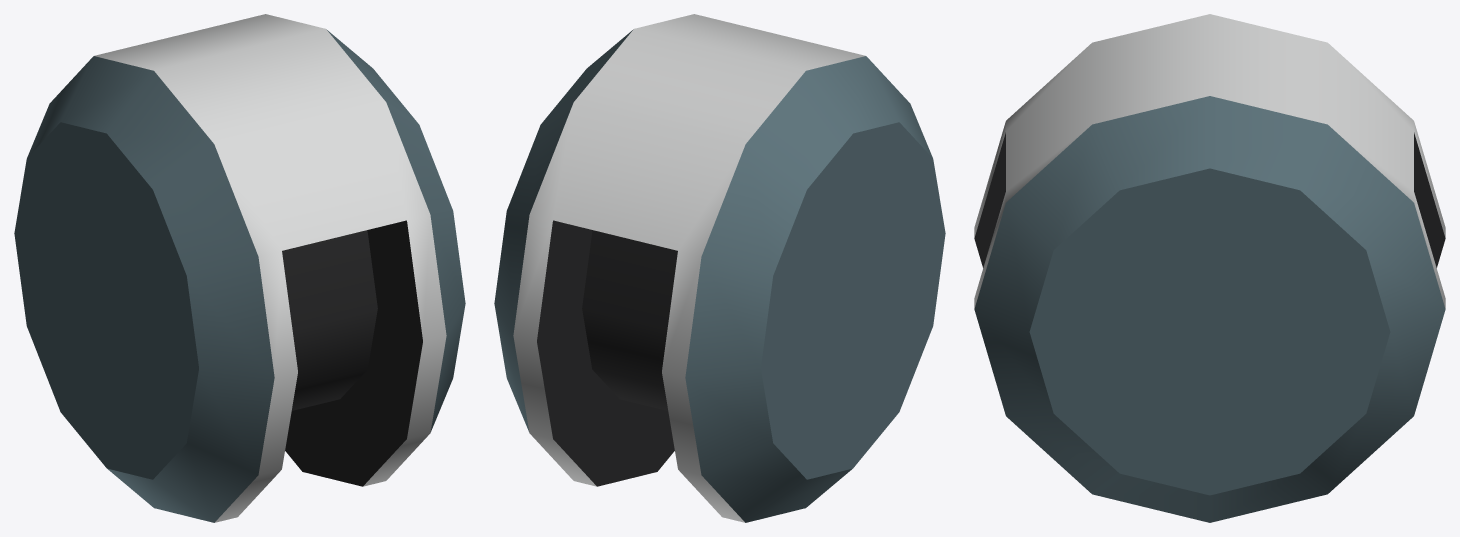
File: Cam_006.fbx
The picture shows the model from 3 angles, left to right: view 1: azimuth 30°, elevation 25°; view 2: azimuth 150°, elevation 25°; view 3: azimuth 270°, elevation 25°; orthographic projection. The views are drawn at different scales.
Visible parts, largest first — view 1: Cam_006; view 2: Cam_006; view 3: Cam_006.
Part boxes in pixels (box(x1,y1,x2,y2)): Cam_006: box(14, 14, 465, 522); Cam_006: box(494, 14, 945, 522); Cam_006: box(974, 14, 1445, 522).
Size of the model in its own units: 13.46 by 21.1 by 21.1.
